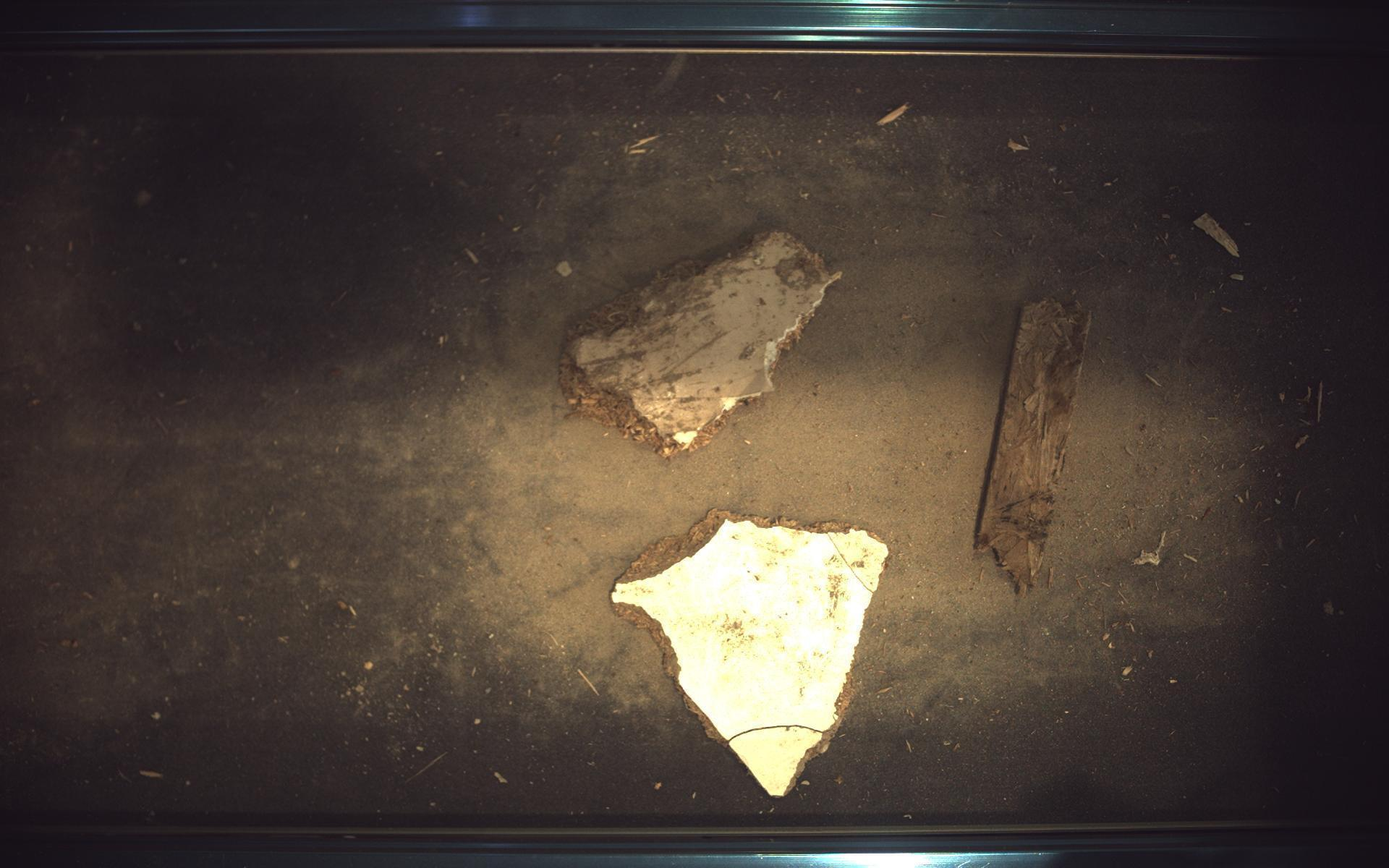wood: (612, 511, 890, 798), (561, 231, 842, 456), (978, 299, 1092, 596)
